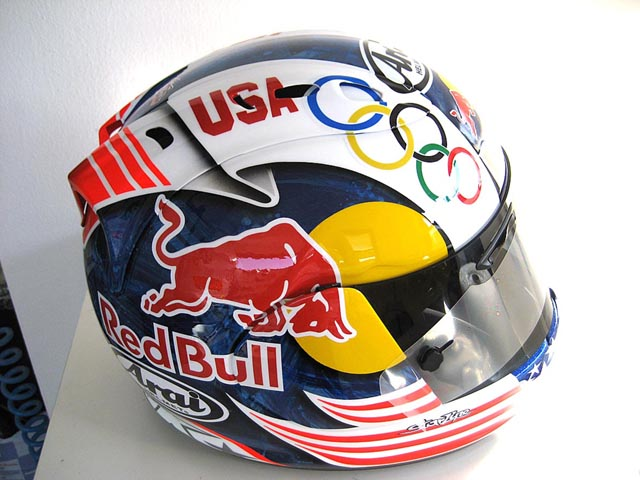helmet: (103, 67, 540, 435)
